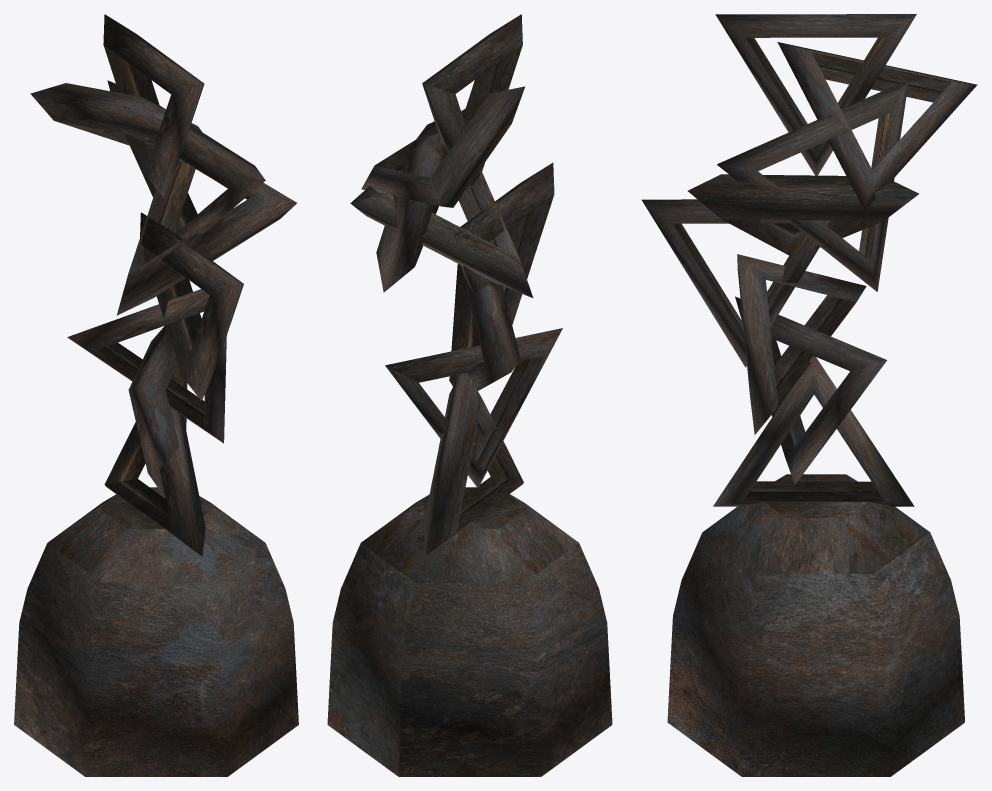
The model's file is GreekChimes.fbx.
3 views of the same model, side by side, from view 1: azimuth 30°, elevation 25°; view 2: azimuth 150°, elevation 25°; view 3: azimuth 270°, elevation 25° (orthographic). The views are drawn at different scales.
Visible parts, largest first — view 1: Cylinder.003; view 2: Cylinder.003; view 3: Cylinder.003.
Boxes of the visible parts, x1=… form: Cylinder.003: x1=14, y1=14, x2=298, y2=776; Cylinder.003: x1=327, y1=14, x2=612, y2=776; Cylinder.003: x1=641, y1=14, x2=977, y2=776.
Bounding box in the file's own units: 69.56 × 221 × 90.77.
